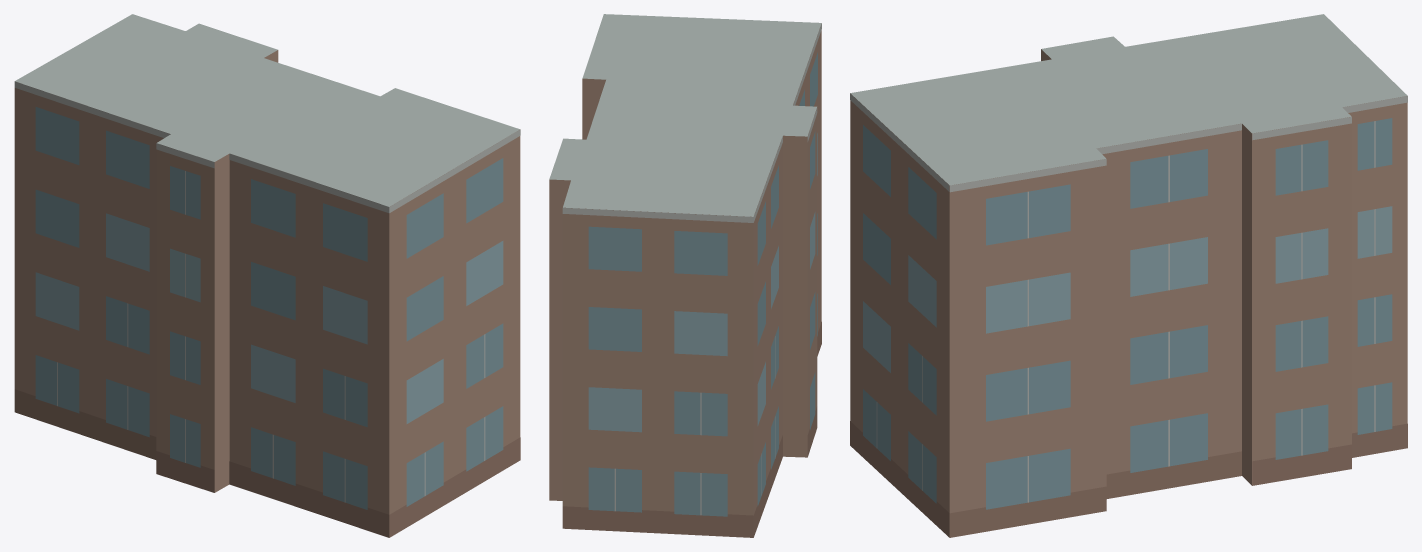
File: survey-upis-32754692.glb
3 views of the same model, side by side, from view 1: azimuth 30°, elevation 25°; view 2: azimuth 150°, elevation 25°; view 3: azimuth 270°, elevation 25° (orthographic). The views are drawn at different scales.
Parts seen in each view (by area): view 1: survey-upis-32754692.tmp; view 2: survey-upis-32754692.tmp; view 3: survey-upis-32754692.tmp.
Part boxes in pixels (x1,y1,x2,y2): survey-upis-32754692.tmp: [14, 14, 520, 537]; survey-upis-32754692.tmp: [549, 14, 821, 537]; survey-upis-32754692.tmp: [850, 14, 1407, 537].
Bounding box in the file's own units: 13.19 × 12.63 × 18.13.
